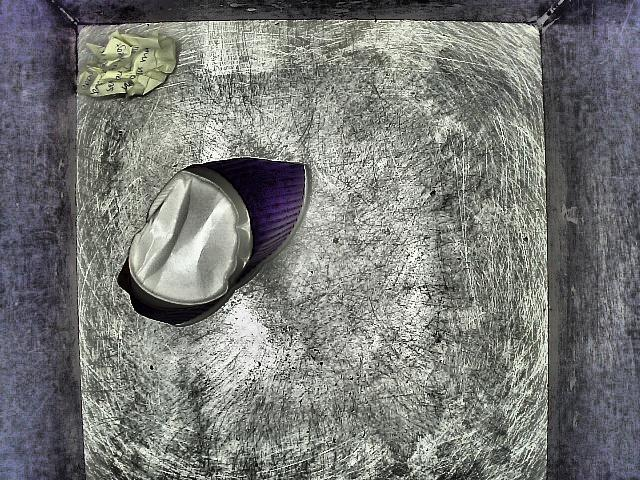Paper: (62, 164, 617, 475), (52, 13, 187, 113)
